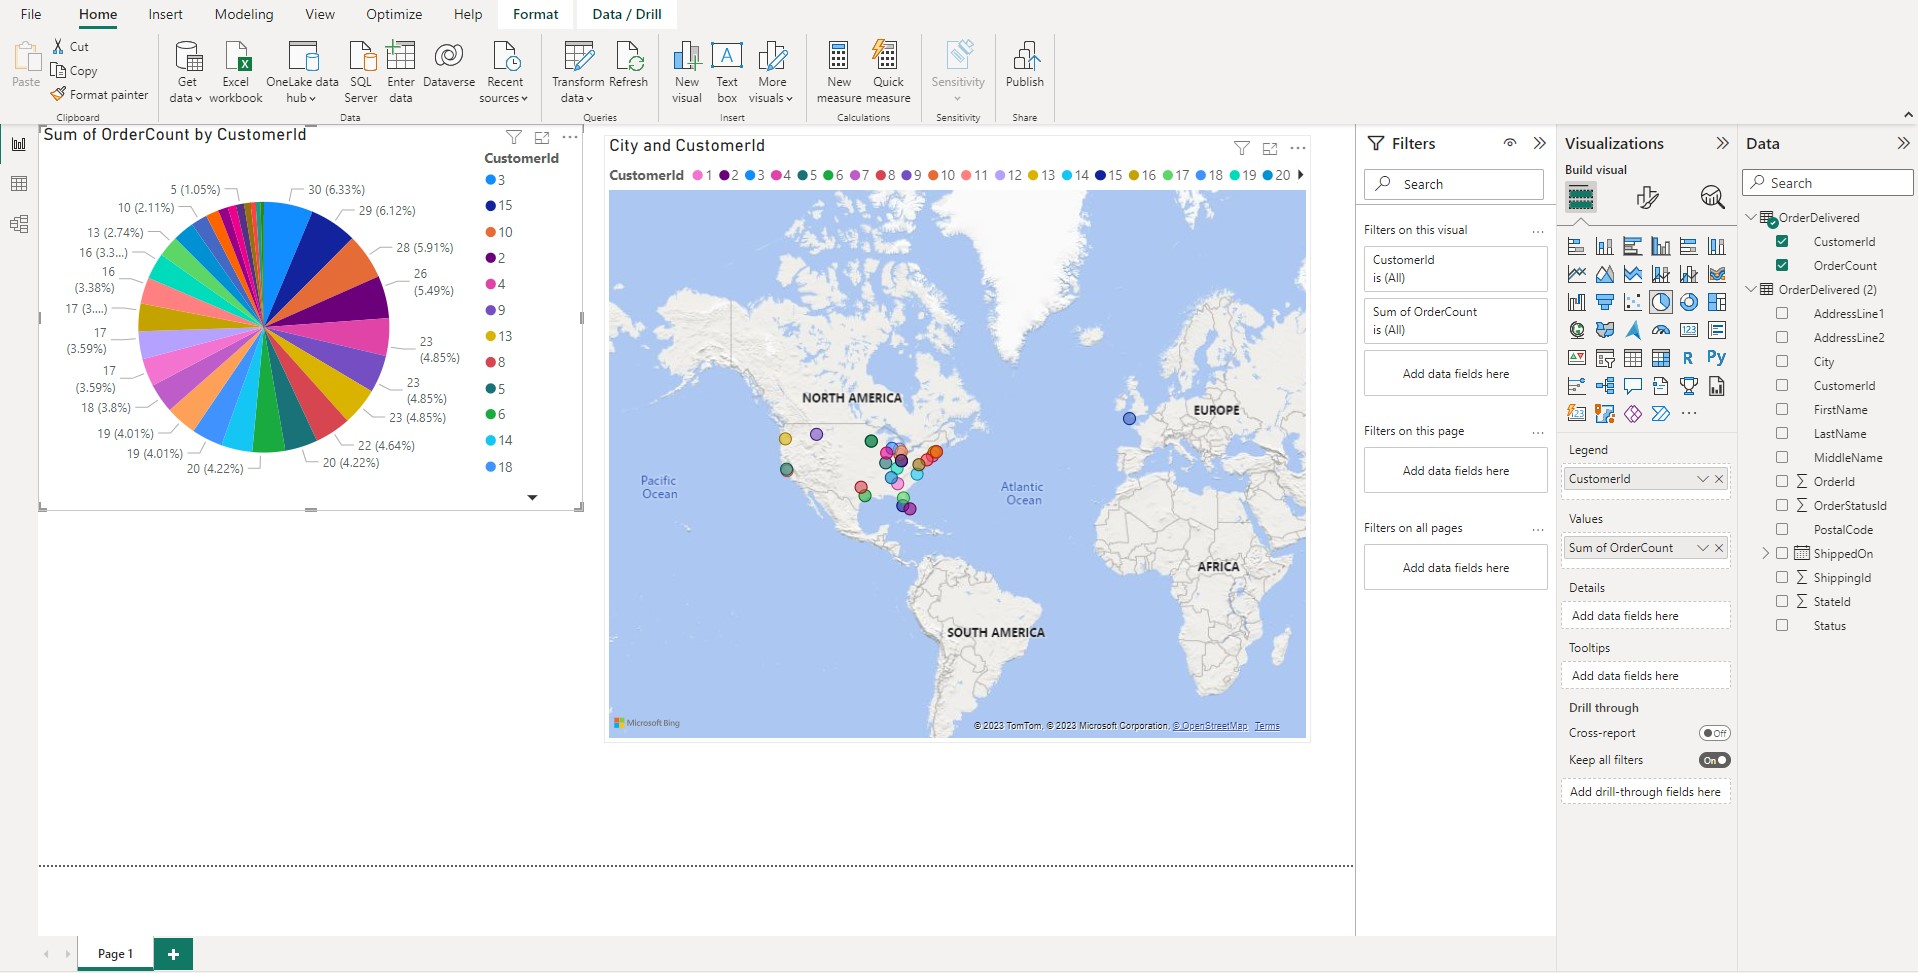

What the dashboard file says about the page in this screenshot:
{"tool":"powerbi","page":{"name":"Page 1","canvas":[1280,720],"ordinal":0},"visuals":[{"type":"pieChart","fields":{"Category":["OrderDelivered.CustomerId"],"Y":["Sum(OrderDelivered.OrderCount)"]},"box":[0,0,529.7,376.1],"z":0},{"type":"map","fields":{"Category":["OrderDelivered (2).City"],"Series":["OrderDelivered.CustomerId"]},"box":[550.1,10.7,687.1,590.9],"z":1}]}

Visuals, with their boxes on the page's 1280x720 design canvas (x1, y1, x2, y2). These are canvas units, not pixel positions in the 1918x973 screenshot, which may show the page scaled, cropped or inside an application window:
pieChart - OrderDelivered.CustomerId x Sum(OrderDelivered.OrderCount): bbox(0, 0, 530, 376)
map - OrderDelivered (2).City x OrderDelivered.CustomerId: bbox(550, 11, 1237, 602)
